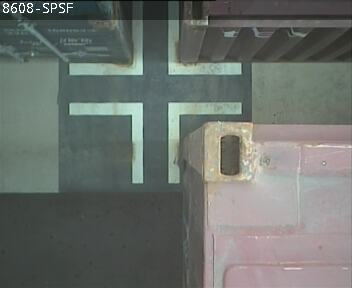groundmarker_1: (69, 101, 242, 183), (69, 1, 241, 75)
